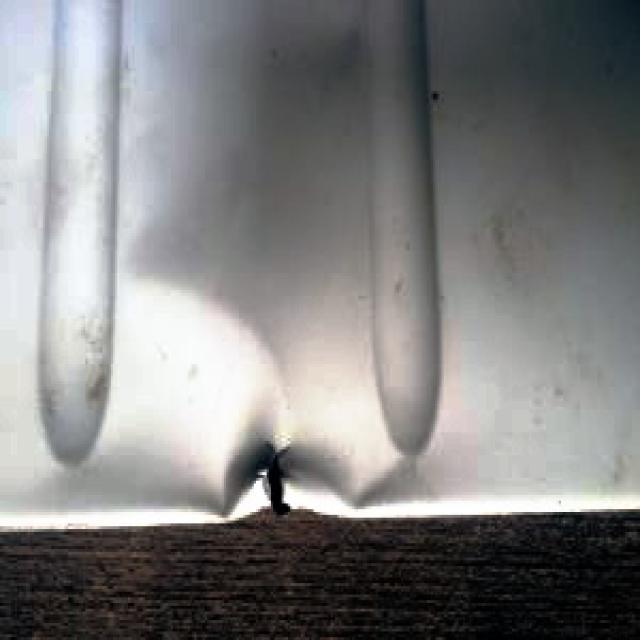crack: (242, 439, 300, 525)
